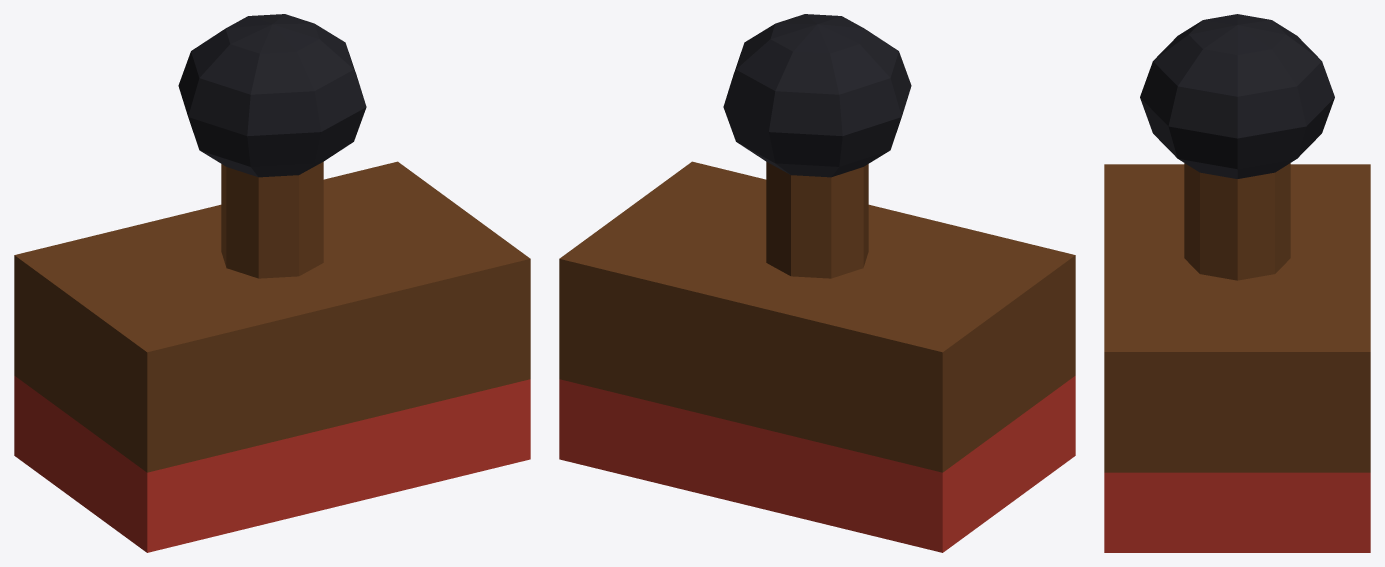
Rendered from installment_stamp.glb.
3 renders of one model, left to right at view 1: azimuth 30°, elevation 25°; view 2: azimuth 150°, elevation 25°; view 3: azimuth 270°, elevation 25°, orthographic.
Visible parts, largest first — view 1: base_frame_wood, rubber_stamp_red, knob_knob_black, neck_frame_wood; view 2: base_frame_wood, rubber_stamp_red, knob_knob_black, neck_frame_wood; view 3: base_frame_wood, knob_knob_black, rubber_stamp_red, neck_frame_wood.
Boxes of the visible parts, box(x1,y1,x2,y2) form: base_frame_wood: box(14, 161, 530, 472); rubber_stamp_red: box(14, 376, 530, 552); knob_knob_black: box(178, 14, 366, 177); neck_frame_wood: box(221, 162, 323, 278); base_frame_wood: box(559, 161, 1075, 472); rubber_stamp_red: box(559, 376, 1075, 552); knob_knob_black: box(723, 14, 911, 177); neck_frame_wood: box(766, 162, 868, 278); base_frame_wood: box(1104, 164, 1370, 472); knob_knob_black: box(1140, 14, 1334, 178); rubber_stamp_red: box(1104, 472, 1370, 552); neck_frame_wood: box(1184, 163, 1290, 280).
Size of the model in its own units: 0.1 by 0.108 by 0.06.
